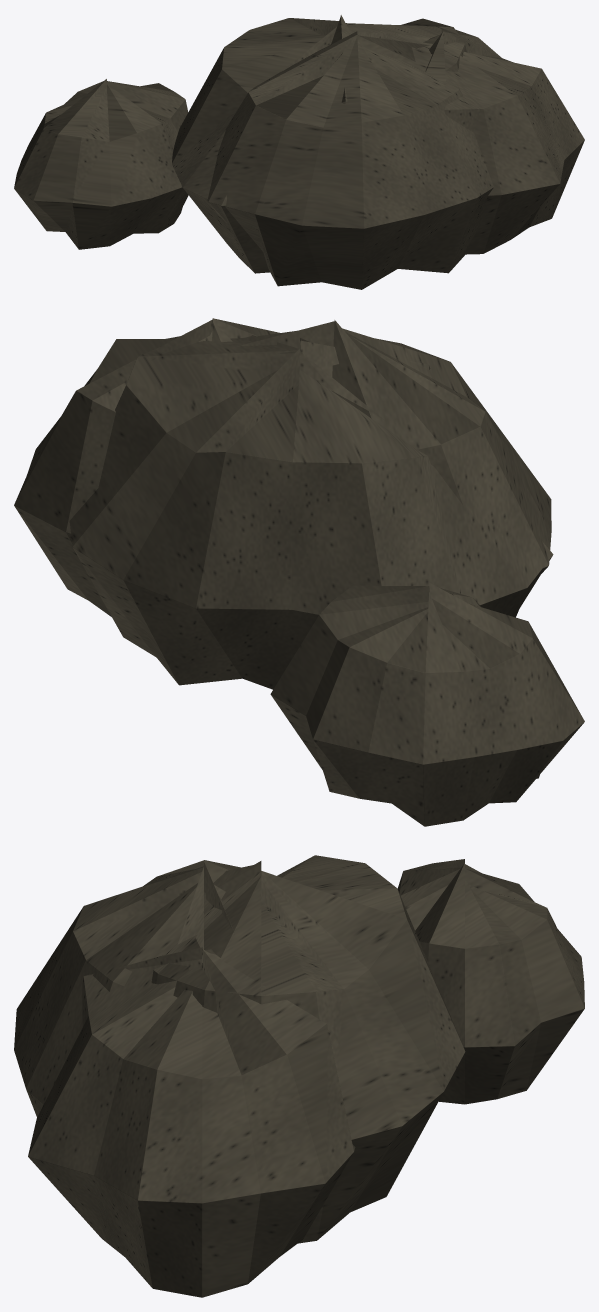
The model's file is PROP-76445B97A926_lod0.glb.
3 views of the same model, one above another, from view 1: azimuth 30°, elevation 25°; view 2: azimuth 150°, elevation 25°; view 3: azimuth 270°, elevation 25° (orthographic). The views are drawn at different scales.
Parts seen in each view (by area): view 1: rock.005; view 2: rock.005; view 3: rock.005.
Boxes of the visible parts, x1,y1,x2,y2 form: rock.005: (14,15,584,289); rock.005: (14,318,584,826); rock.005: (14,855,584,1297).
Bounding box in the file's own units: 2.03 × 0.9262 × 1.55.
1 material, 1 textured.
